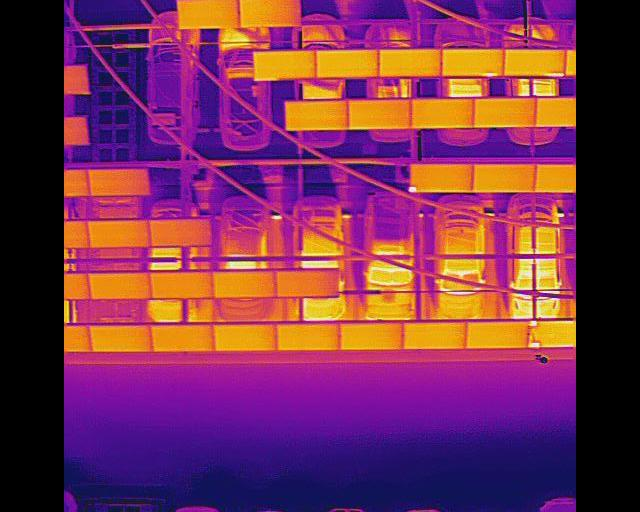Cell: (410, 163, 473, 191)
Cell-Multi: (527, 320, 576, 348)
No-Anomaly: (410, 96, 476, 129), (347, 97, 412, 129), (285, 99, 349, 130), (402, 319, 468, 349), (254, 50, 315, 81), (275, 322, 340, 351), (339, 321, 403, 350), (316, 49, 380, 78), (473, 97, 536, 126), (472, 164, 537, 192), (274, 270, 340, 297), (379, 48, 442, 76), (213, 323, 276, 351), (238, 0, 303, 27), (152, 322, 214, 350), (178, 0, 240, 28), (212, 270, 276, 297), (88, 324, 152, 351), (86, 220, 150, 247), (149, 219, 212, 246), (149, 271, 214, 297), (467, 320, 528, 347), (87, 273, 152, 298), (86, 169, 149, 194), (534, 164, 576, 192), (537, 96, 576, 125)
Unclassified: (504, 49, 568, 76), (442, 49, 505, 76)
